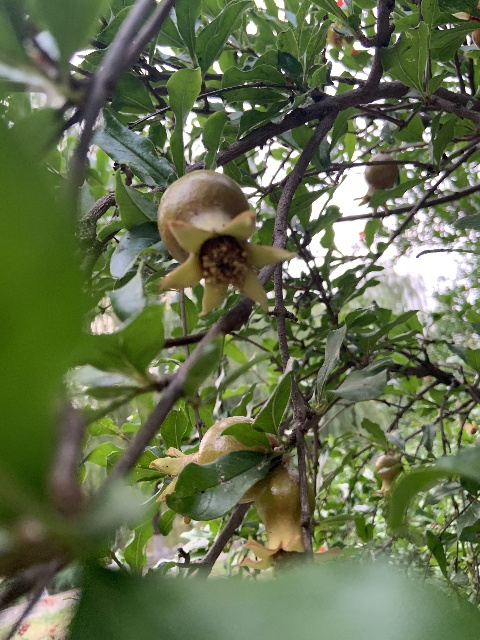early-fruit: (156, 169, 296, 317), (149, 416, 272, 503), (238, 467, 343, 567), (352, 153, 399, 214), (371, 454, 401, 496)
